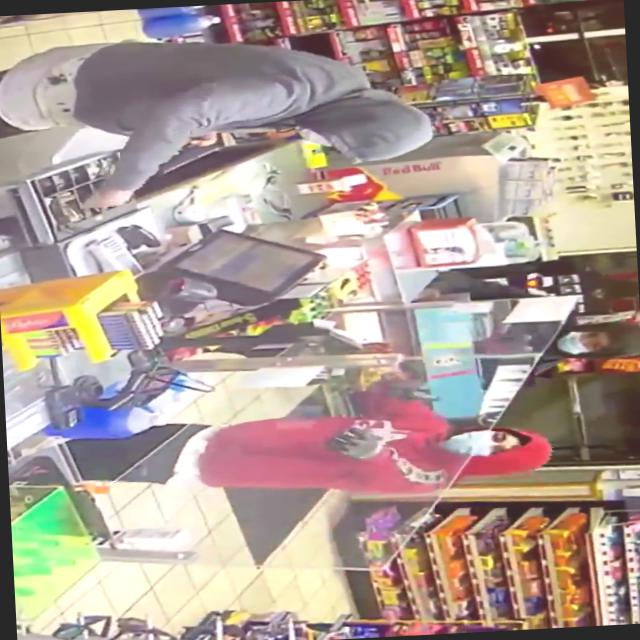handgun: (150, 129, 233, 186), (367, 372, 458, 410)
